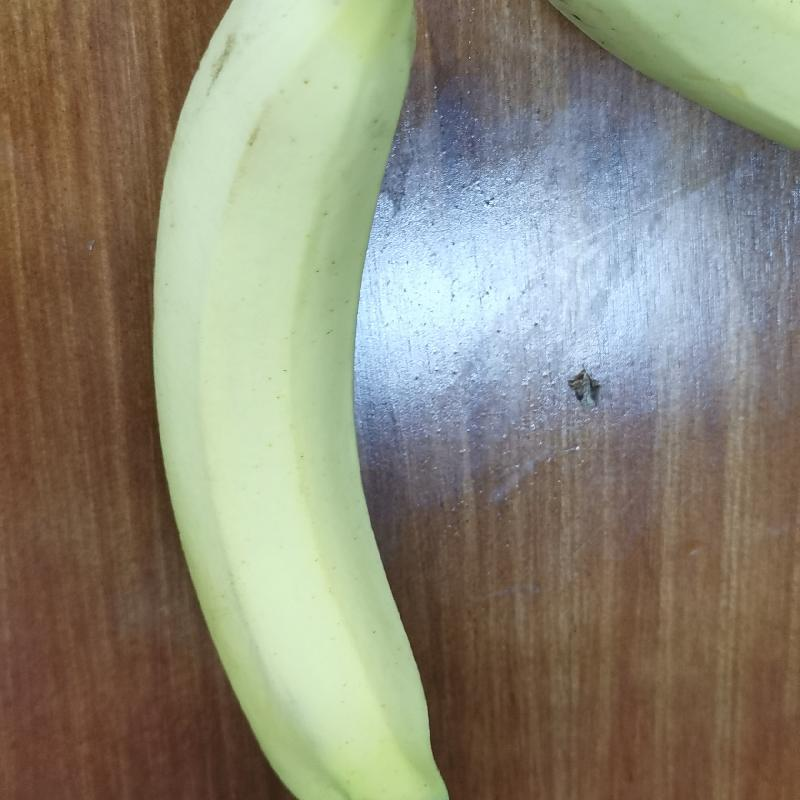bananas: (149, 0, 455, 799)
